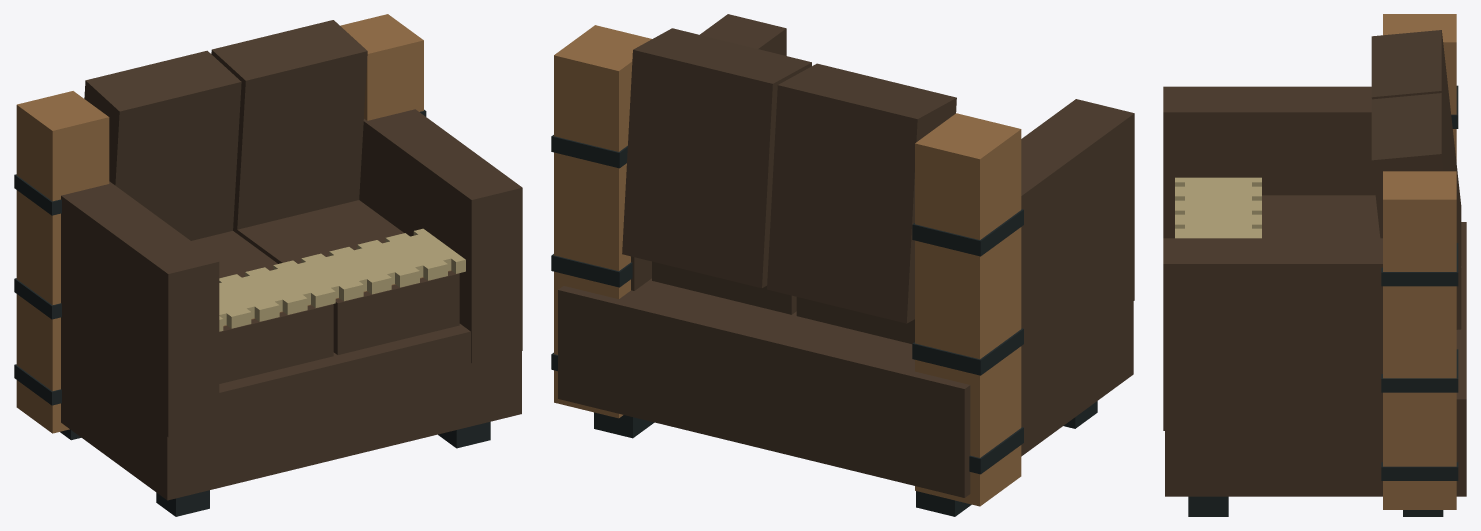
File: good.glb
3 renders of one model, left to right at view 1: azimuth 30°, elevation 25°; view 2: azimuth 150°, elevation 25°; view 3: azimuth 270°, elevation 25°, orthographic. The views are drawn at different scales.
Parts seen in each view (by area): view 1: Armrest, Timber post, Fur tufts, Iron strap; view 2: Armrest, Timber post, Iron strap; view 3: Armrest, Timber post, Fur tufts, Iron strap.
Boxes of the visible parts, <box> form: Armrest: <box>61,20,522,500</box>; Timber post: <box>16,14,451,433</box>; Fur tufts: <box>219,228,465,331</box>; Iron strap: <box>14,109,490,516</box>; Armrest: <box>558,14,1134,497</box>; Timber post: <box>554,25,1021,506</box>; Iron strap: <box>551,135,1097,516</box>; Armrest: <box>1163,30,1466,496</box>; Timber post: <box>1383,14,1456,509</box>; Fur tufts: <box>1175,177,1261,238</box>; Iron strap: <box>1188,85,1458,516</box>.
Size of the model in its own units: 1.47 by 1.27 by 1.01.
